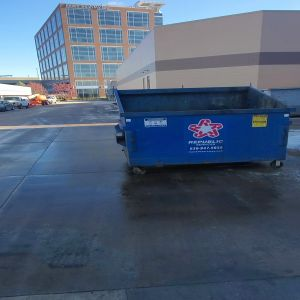Dumpster: (114, 87, 295, 173)
